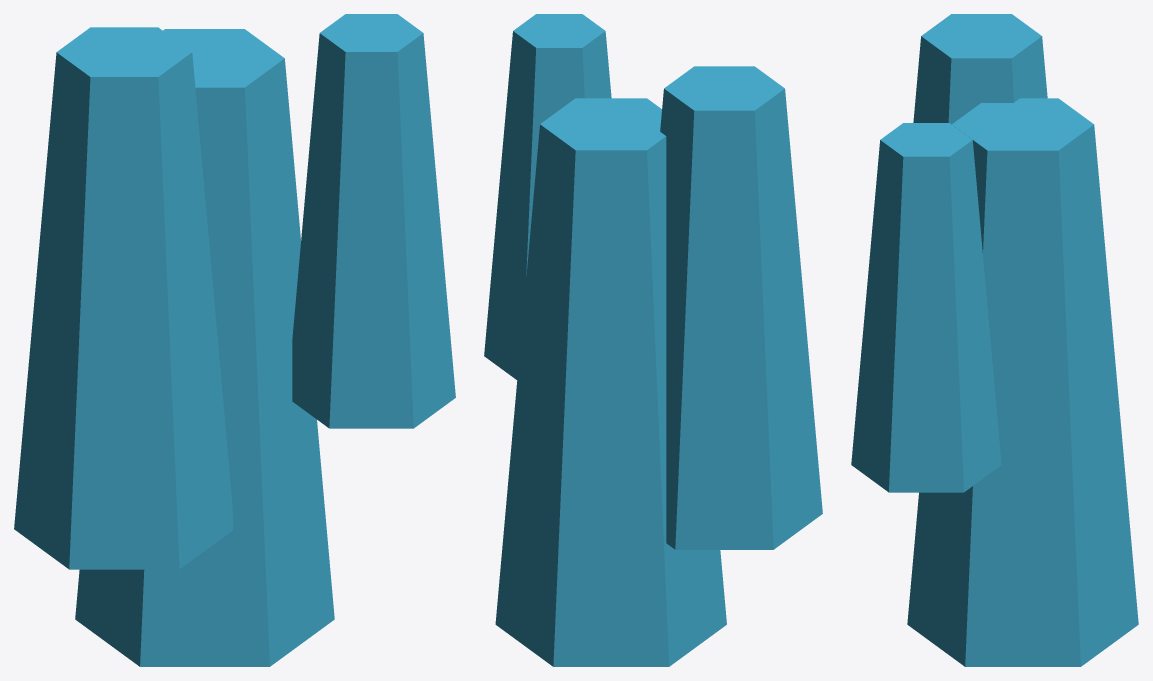
The model's file is crystal.glb.
The picture shows the model from 3 angles, left to right: view 1: azimuth 30°, elevation 25°; view 2: azimuth 150°, elevation 25°; view 3: azimuth 270°, elevation 25°; orthographic projection. The views are drawn at different scales.
Visible parts, largest first — view 1: Crystal_0, Crystal_2, Crystal_1; view 2: Crystal_2, Crystal_0, Crystal_1; view 3: Crystal_2, Crystal_1, Crystal_0.
Part boxes in pixels (bbox=[...]): Crystal_0: bbox=[14, 27, 233, 569]; Crystal_2: bbox=[75, 29, 334, 666]; Crystal_1: bbox=[292, 14, 455, 428]; Crystal_2: bbox=[495, 98, 726, 666]; Crystal_0: bbox=[660, 66, 822, 549]; Crystal_1: bbox=[484, 14, 611, 379]; Crystal_2: bbox=[907, 98, 1138, 666]; Crystal_1: bbox=[851, 123, 1001, 492]; Crystal_0: bbox=[913, 14, 1047, 124].
Size of the model in its own units: 0.4189 by 0.6735 by 0.323.
